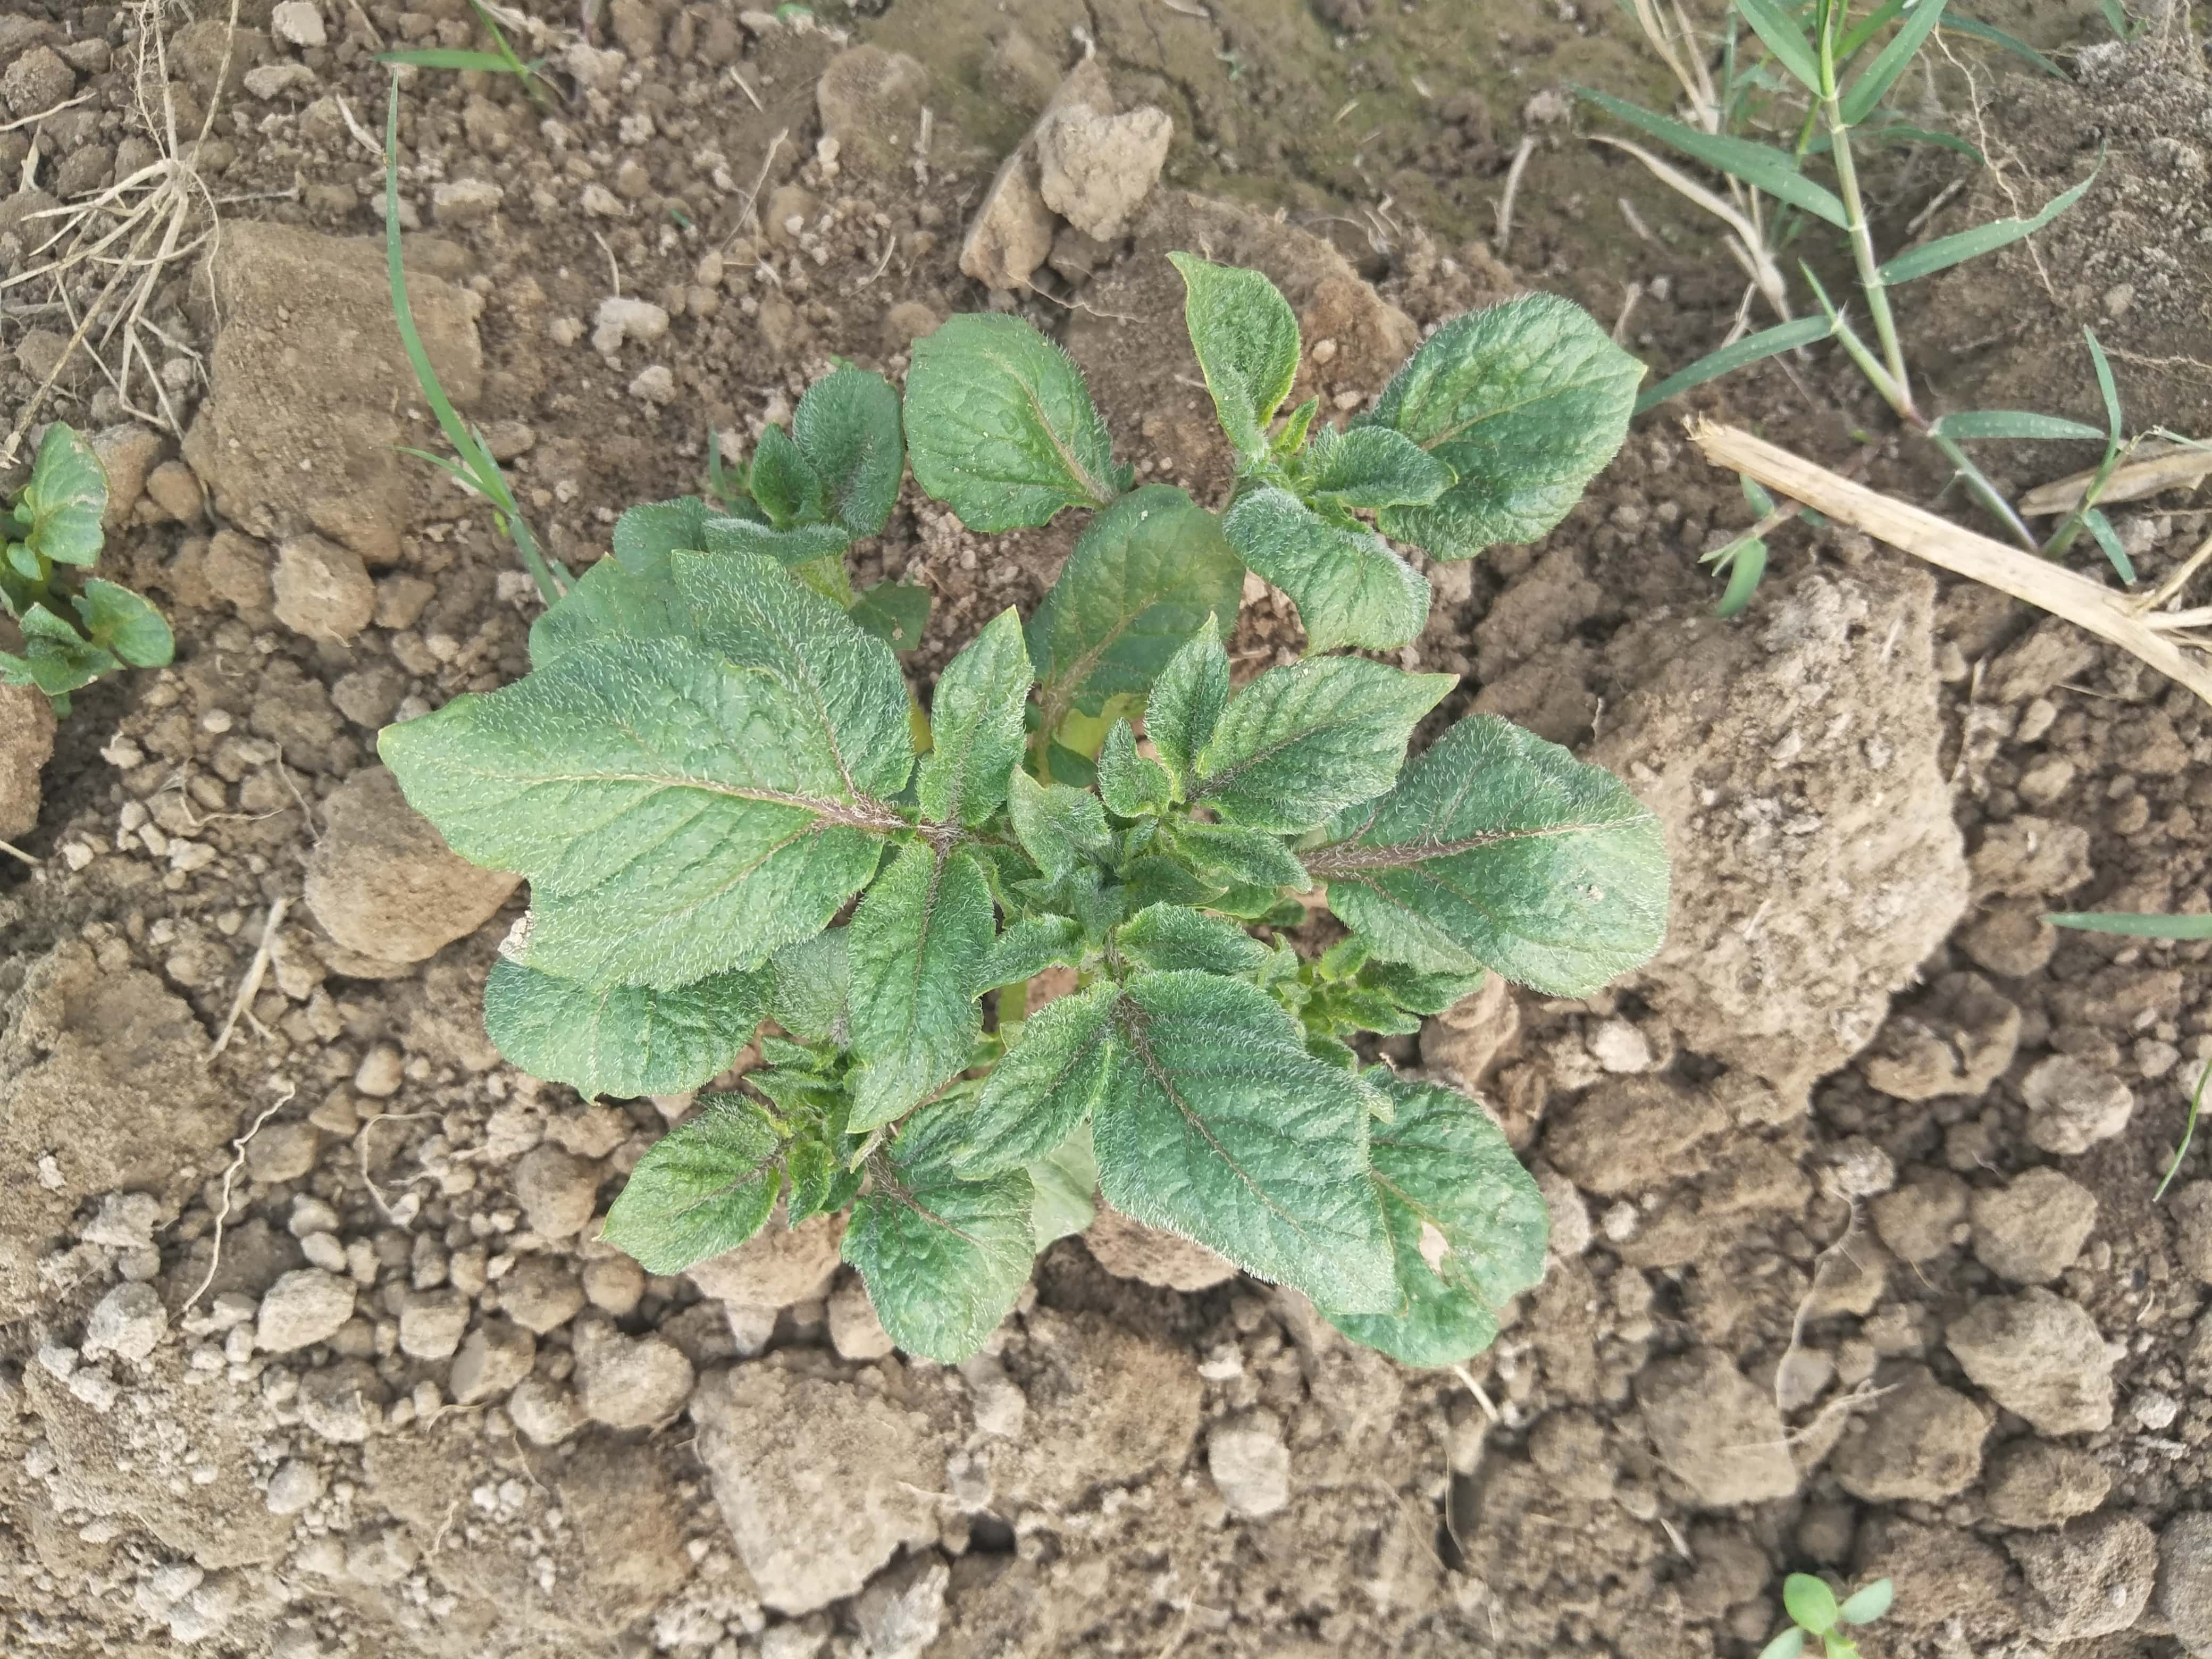daun: (362, 556, 900, 965), (1090, 981, 1386, 1316), (1312, 718, 1672, 988), (1364, 295, 1634, 542), (1331, 1091, 1533, 1368), (1188, 638, 1453, 826), (900, 321, 1129, 528), (838, 1124, 1033, 1354), (1028, 479, 1231, 697), (848, 849, 981, 1121), (944, 962, 1113, 1169), (475, 969, 766, 1084), (610, 1091, 786, 1272), (1217, 490, 1433, 626), (1165, 251, 1294, 476), (925, 615, 1028, 829), (805, 354, 900, 535), (1155, 608, 1235, 781), (1143, 826, 1301, 896), (1125, 908, 1275, 981), (1014, 781, 1106, 882), (970, 915, 1096, 985), (738, 416, 815, 528), (1116, 727, 1172, 833)
